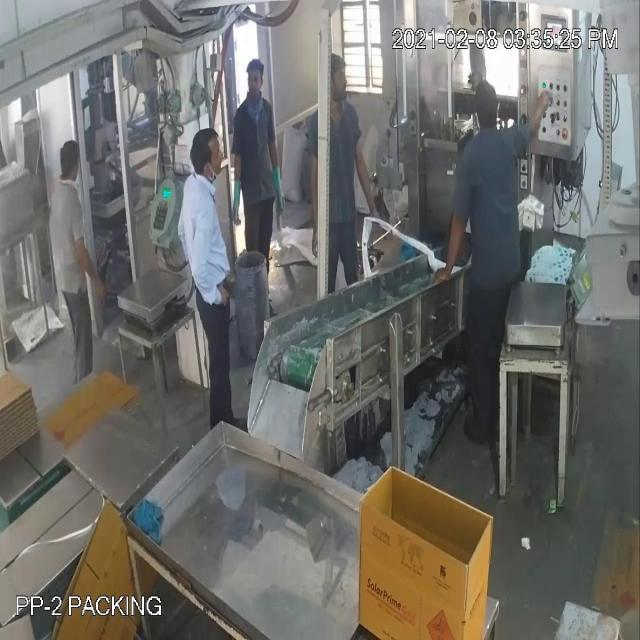No_Gloves: (23, 60, 544, 262)
